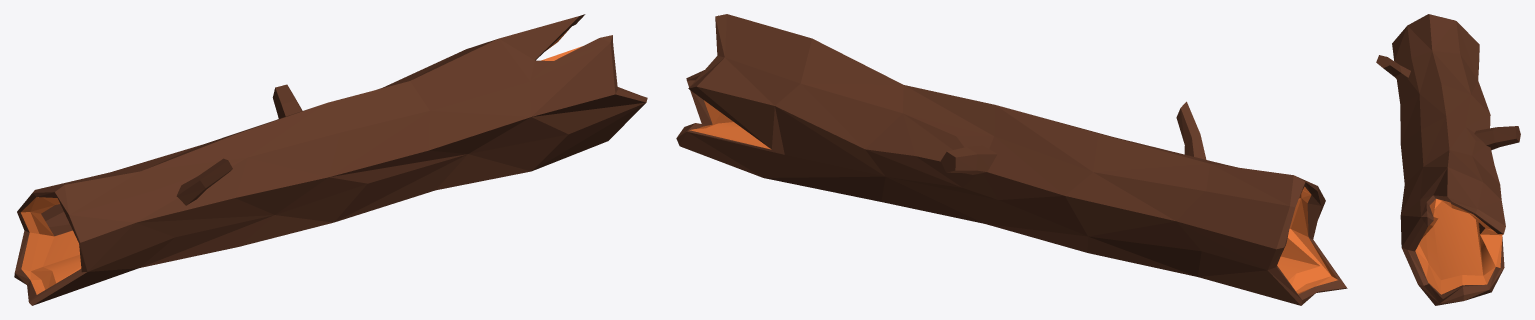
The model's file is TreeTrunkOld_001.FBX.
The picture shows the model from 3 angles, left to right: view 1: azimuth 30°, elevation 25°; view 2: azimuth 150°, elevation 25°; view 3: azimuth 270°, elevation 25°; orthographic projection. The views are drawn at different scales.
Parts seen in each view (by area): view 1: TreeTrunk_001, Branch_001, Branch_002; view 2: TreeTrunk_001, Branch_002, Branch_001; view 3: TreeTrunk_001, Branch_002, Branch_001.
Boxes of the visible parts, left/top/right/bottom form: TreeTrunk_001: left=14, top=14, right=647, bottom=305; Branch_001: left=176, top=158, right=232, bottom=205; Branch_002: left=272, top=84, right=302, bottom=118; TreeTrunk_001: left=676, top=14, right=1347, bottom=305; Branch_002: left=941, top=145, right=997, bottom=174; Branch_001: left=1176, top=101, right=1206, bottom=159; TreeTrunk_001: left=1392, top=14, right=1505, bottom=305; Branch_002: left=1474, top=126, right=1520, bottom=150; Branch_001: left=1376, top=55, right=1410, bottom=84.
Bounding box in the file's own units: 13.39 × 2.81 × 3.33.
